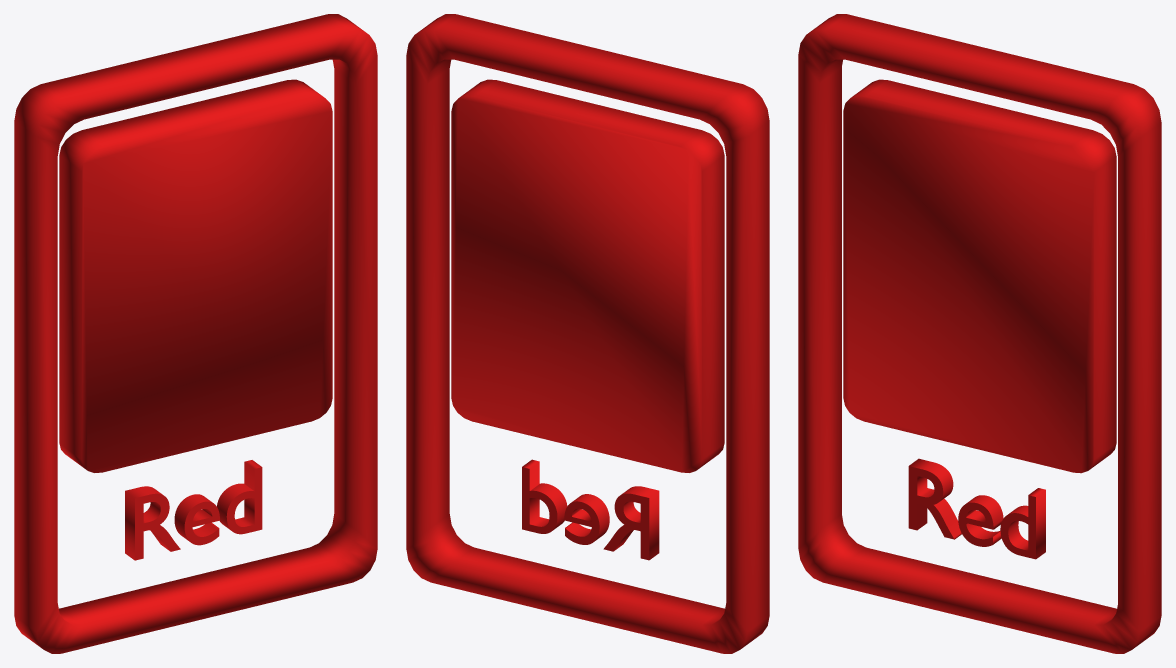
Rendered from Color_Red.gltf.
3 renders of one model, left to right at view 1: azimuth 30°, elevation 25°; view 2: azimuth 150°, elevation 25°; view 3: azimuth 330°, elevation 25°, orthographic.
Visible parts, largest first — view 1: Text.004; view 2: Text.004; view 3: Text.004.
Part boxes in pixels (x1,y1,x2,y2): Text.004: [14, 14, 377, 653]; Text.004: [406, 14, 769, 653]; Text.004: [798, 14, 1161, 653].
Size of the model in its own units: 1 by 1.56 by 0.1143.
